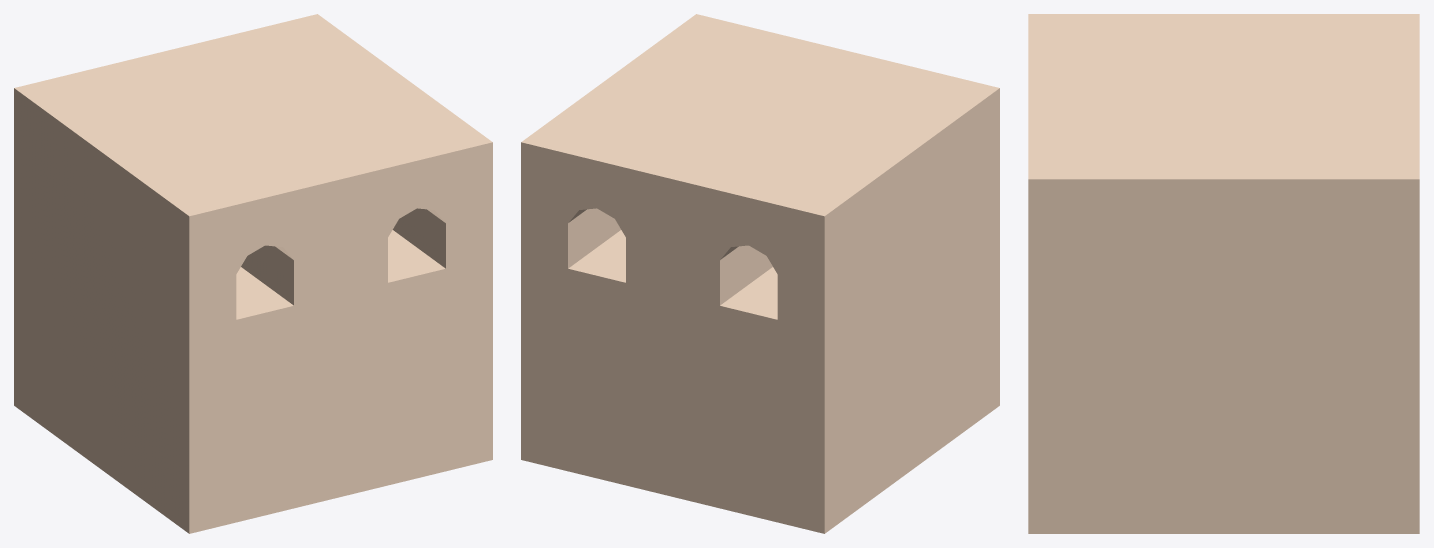
Rendered from Abstract_Castle_Block_Single_DualWindowSmall_Cream_01.fbx.
3 views of the same model, side by side, from view 1: azimuth 30°, elevation 25°; view 2: azimuth 150°, elevation 25°; view 3: azimuth 270°, elevation 25° (orthographic). The views are drawn at different scales.
Parts seen in each view (by area): view 1: Model; view 2: Model; view 3: Model.
Part boxes in pixels (x1=…): Model: x1=14, y1=14, x2=492, y2=533; Model: x1=521, y1=14, x2=999, y2=533; Model: x1=1028, y1=14, x2=1419, y2=533.
Size of the model in its own units: 1000 by 1000 by 1000.
